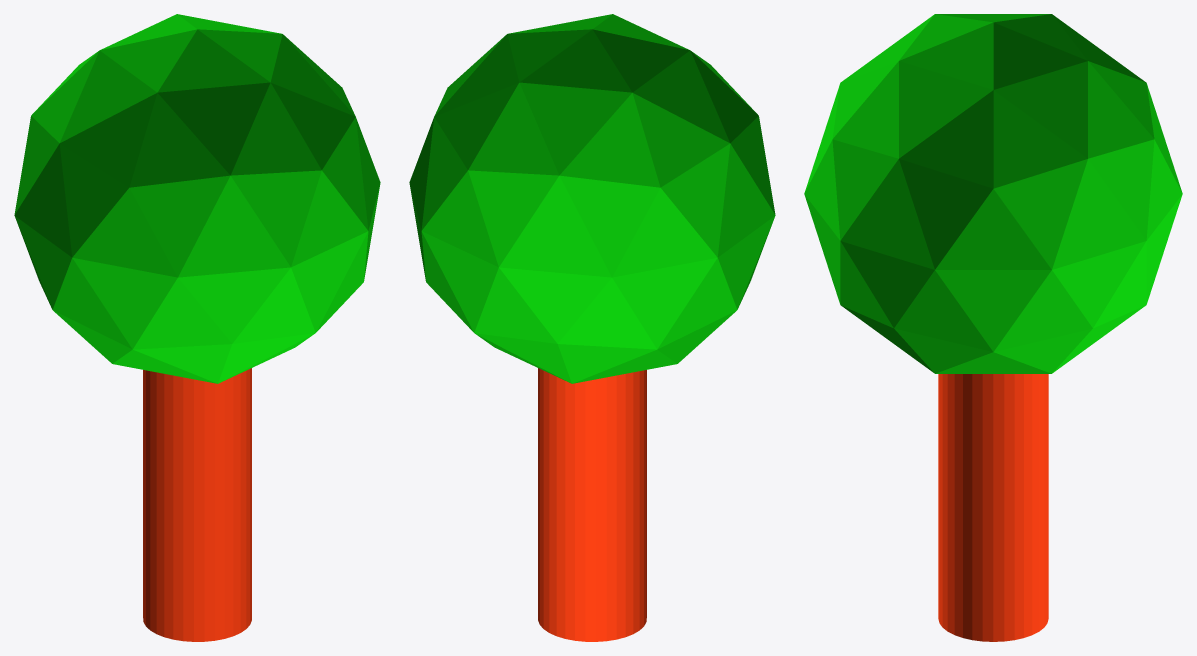
The model's file is simple_low-poly_tree.obj.
The picture shows the model from 3 angles, left to right: view 1: azimuth 30°, elevation 25°; view 2: azimuth 150°, elevation 25°; view 3: azimuth 270°, elevation 25°; orthographic projection.
Parts seen in each view (by area): view 1: obj3, obj1; view 2: obj3, obj1; view 3: obj3, obj1.
Part boxes in pixels (x1,y1,x2,y2): obj3: (14, 14, 380, 383); obj1: (143, 368, 251, 641); obj3: (409, 14, 775, 383); obj1: (538, 368, 646, 641); obj3: (804, 14, 1182, 373); obj1: (938, 374, 1048, 641).
Size of the model in its own units: 6.53 by 11.94 by 6.87.
